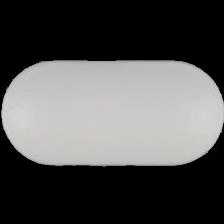0093-1005: (0, 0, 224, 224)
